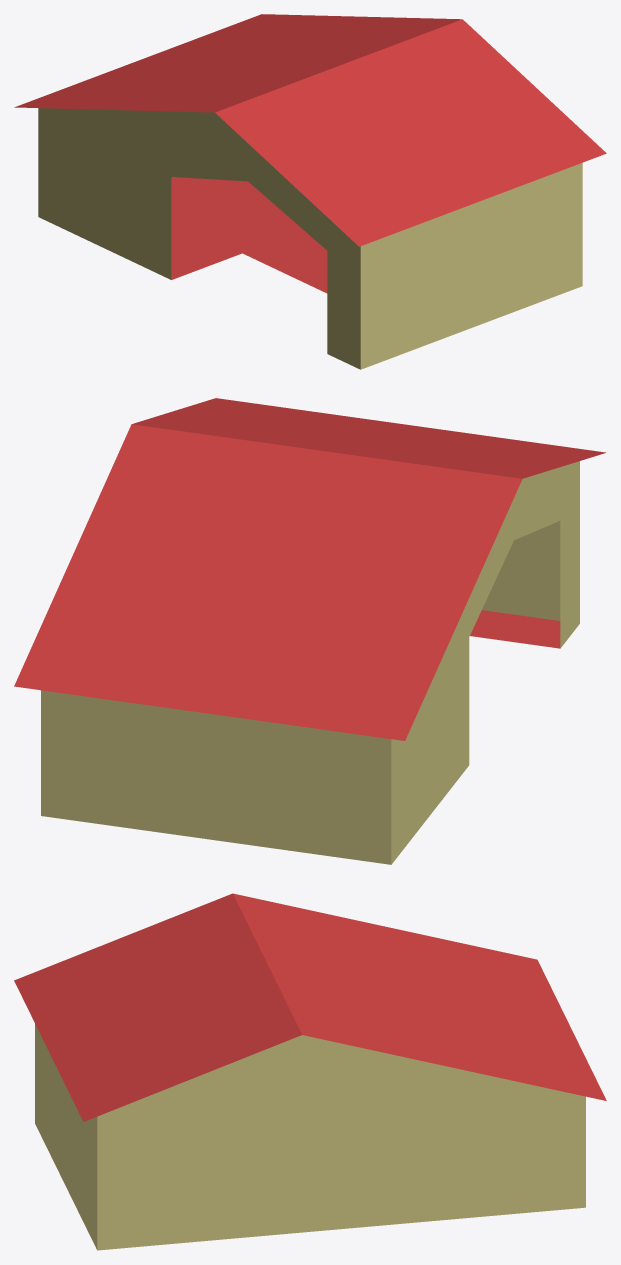
3 views of the same model, one above another, from view 1: azimuth 30°, elevation 25°; view 2: azimuth 150°, elevation 25°; view 3: azimuth 270°, elevation 25° (orthographic). The views are drawn at different scales.
Bounding box in the file's own units: 24.89 × 33.27 × 12.71.
